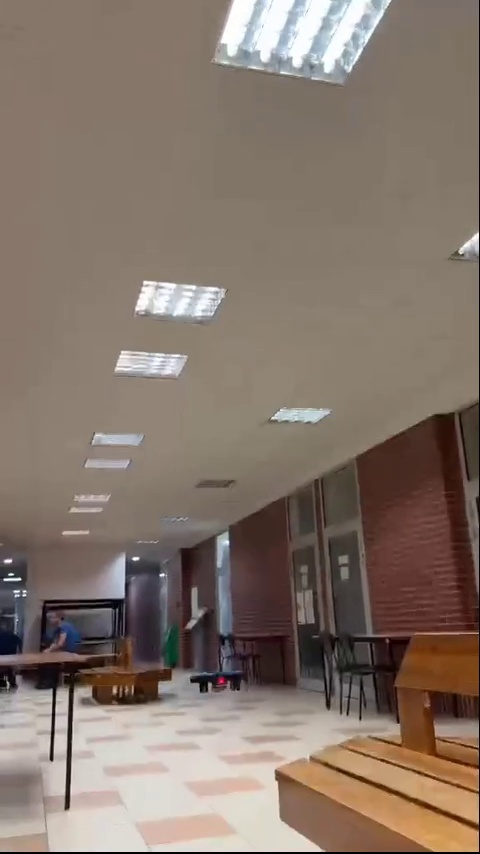drone: (189, 671, 246, 693)
no vest: (42, 608, 88, 660)
